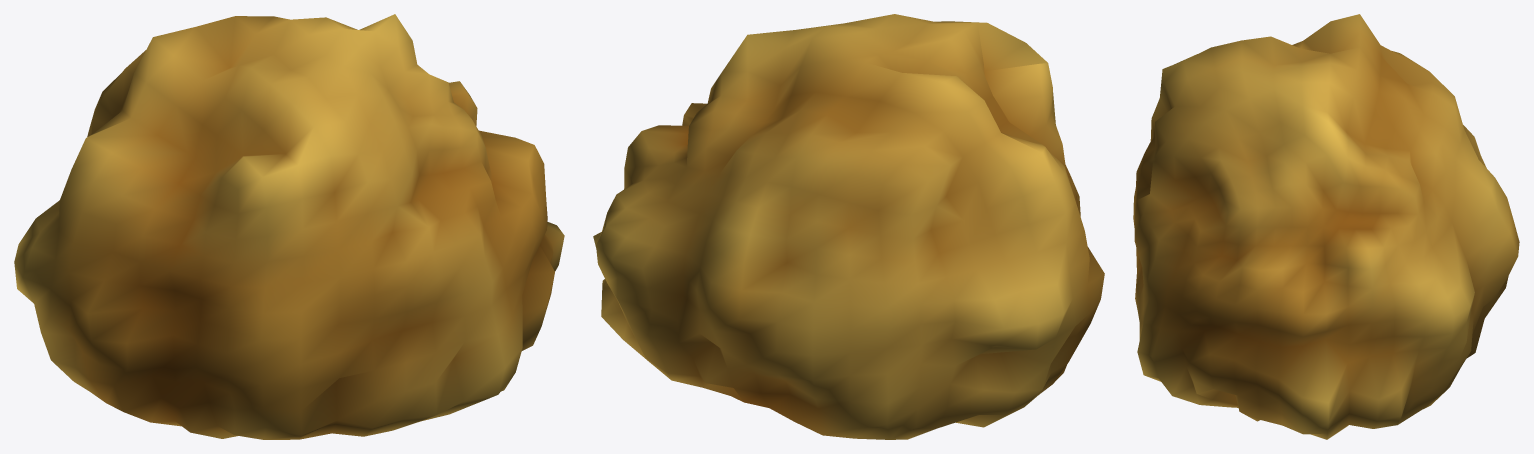
The model's file is tartar_a.glb.
3 views of the same model, side by side, from view 1: azimuth 30°, elevation 25°; view 2: azimuth 150°, elevation 25°; view 3: azimuth 270°, elevation 25° (orthographic). The views are drawn at different scales.
Parts seen in each view (by area): view 1: tartar_a; view 2: tartar_a; view 3: tartar_a.
Boxes of the visible parts, x1,y1,x2,y2 form: tartar_a: [14, 14, 564, 439]; tartar_a: [593, 14, 1104, 439]; tartar_a: [1133, 14, 1519, 439].
Bounding box in the file's own units: 0.34 × 0.2191 × 0.26.
